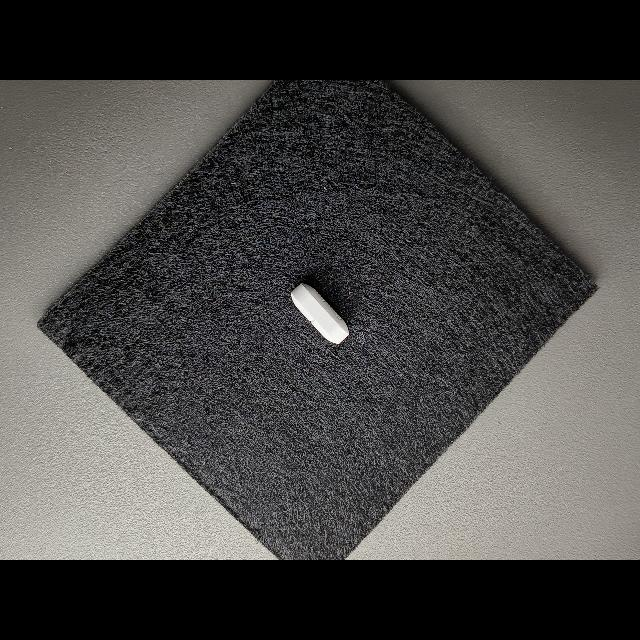Intact Pill: (290, 283, 349, 344)
